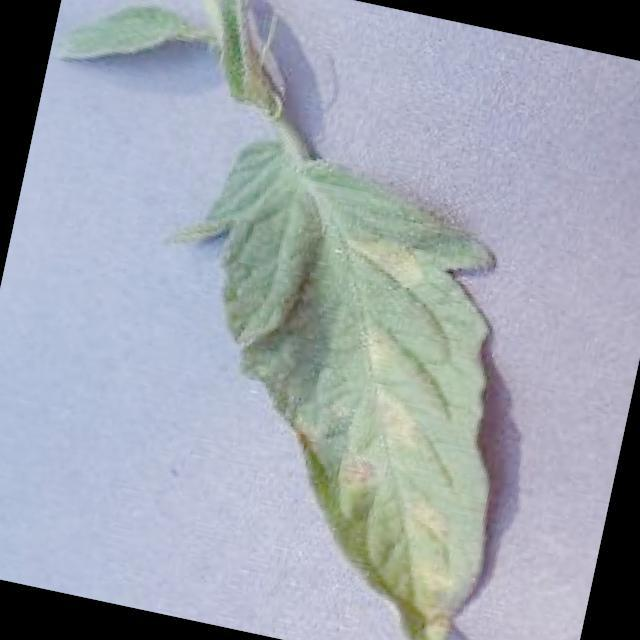Tomato mold leaf: (89, 120, 563, 640)
